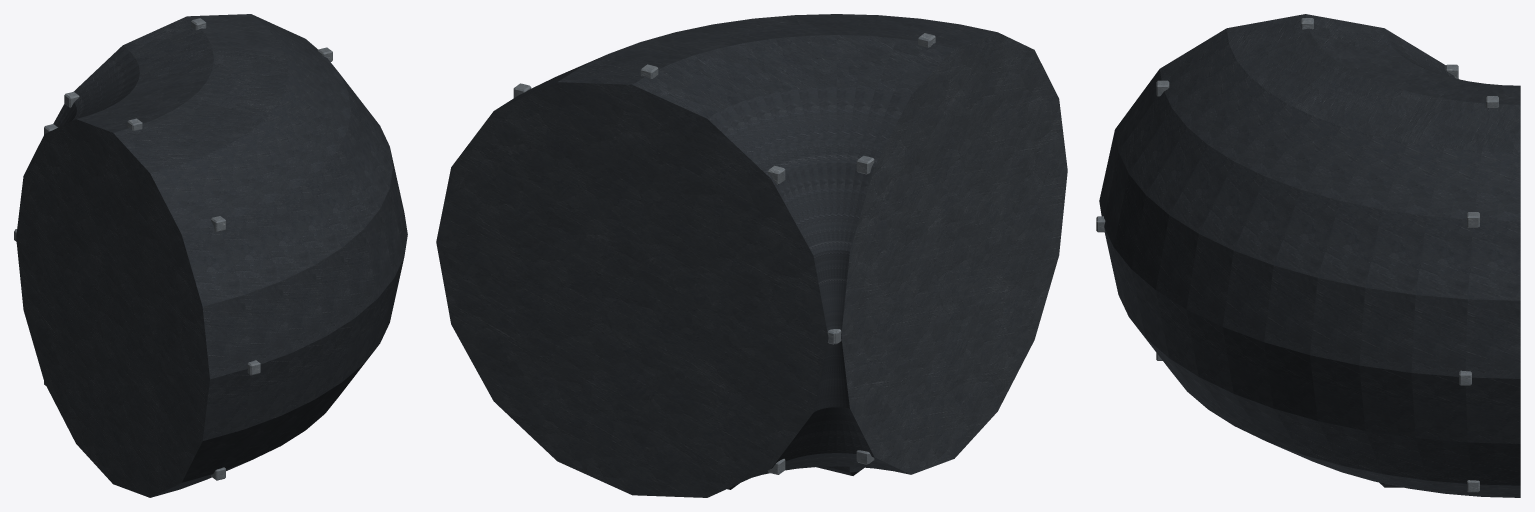
The model's file is train_boiler_curved.gltf.
3 renders of one model, left to right at view 1: azimuth 30°, elevation 25°; view 2: azimuth 150°, elevation 25°; view 3: azimuth 270°, elevation 25°, orthographic. The views are drawn at different scales.
Size of the model in its own units: 0.9866 by 0.995 by 0.9866.
3 materials, 3 textured.
